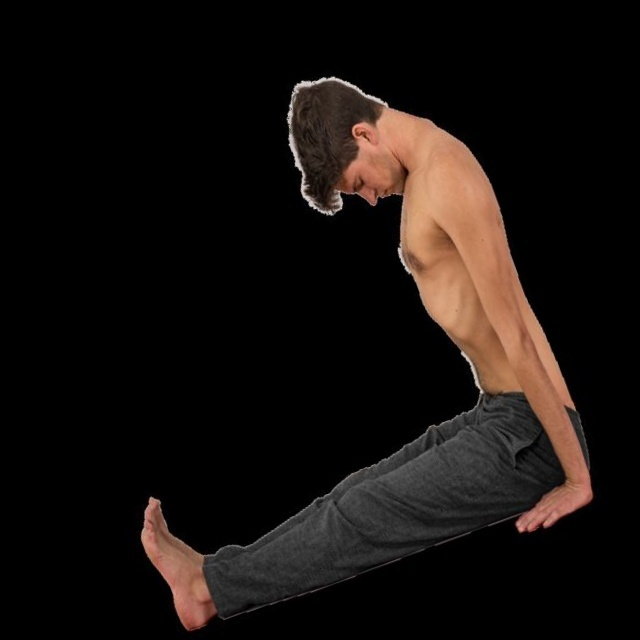Staff_Pose: (138, 76, 593, 627)
